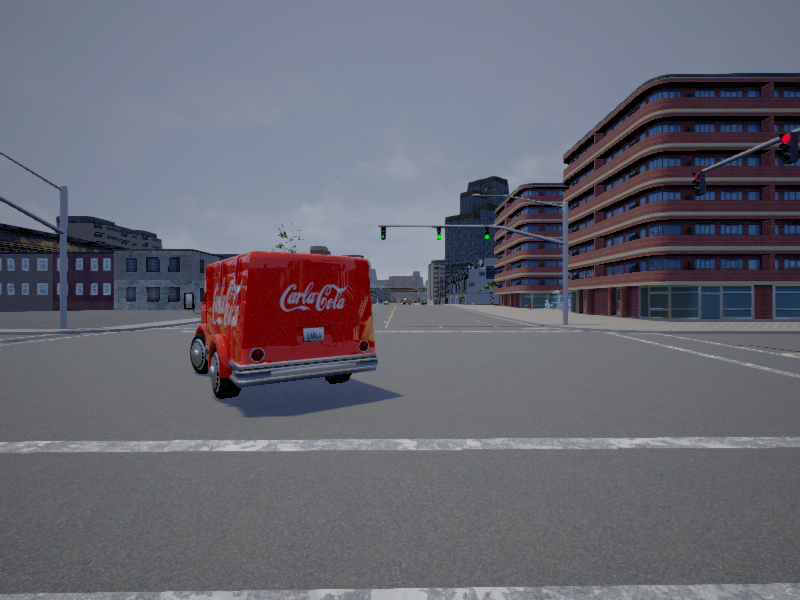Benign: (188, 258, 376, 400)
